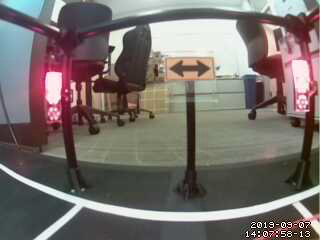Left_Right_sign: (163, 55, 219, 78)
Traffic_light_red: (291, 56, 315, 112), (46, 70, 64, 124)
